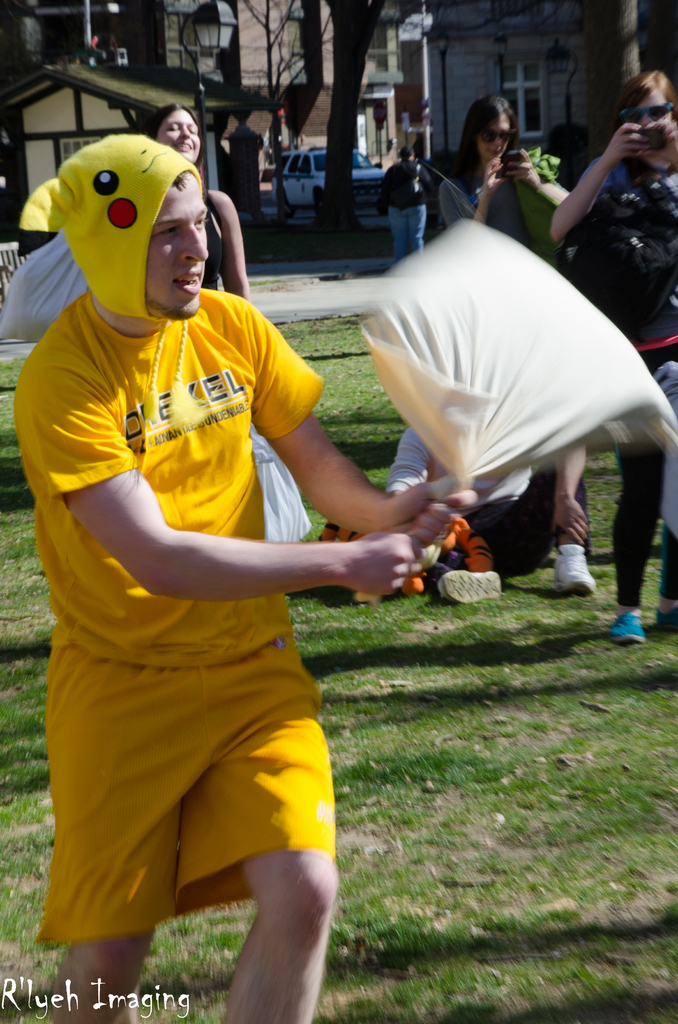Human-face: (145, 173, 211, 318), (628, 87, 677, 154), (154, 113, 206, 157), (474, 116, 516, 164)
